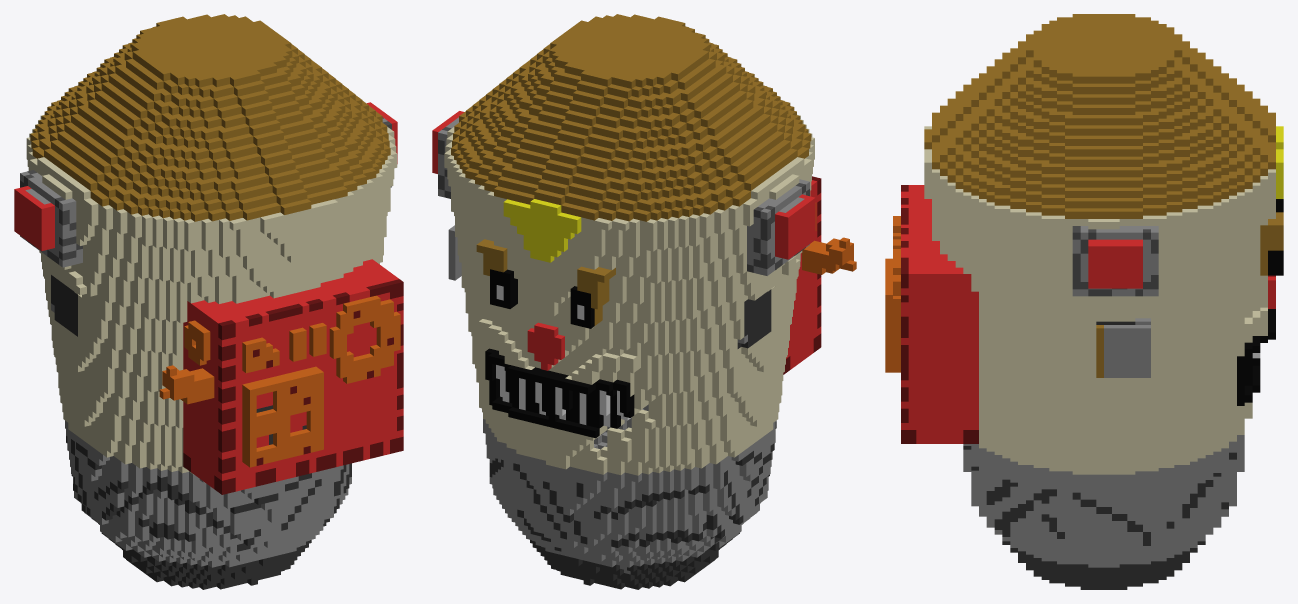
File: RobotEnermy.fbx
3 renders of one model, left to right at view 1: azimuth 30°, elevation 25°; view 2: azimuth 150°, elevation 25°; view 3: azimuth 270°, elevation 25°, orthographic.
Visible parts, largest first — view 1: Modelo TX2022.001; view 2: Modelo TX2022.001; view 3: Modelo TX2022.001.
Boxes of the visible parts, left/top/right/bottom form: Modelo TX2022.001: left=14, top=14, right=403, bottom=589; Modelo TX2022.001: left=432, top=14, right=856, bottom=589; Modelo TX2022.001: left=885, top=14, right=1283, bottom=589.
Size of the model in its own units: 530 by 720 by 510.
